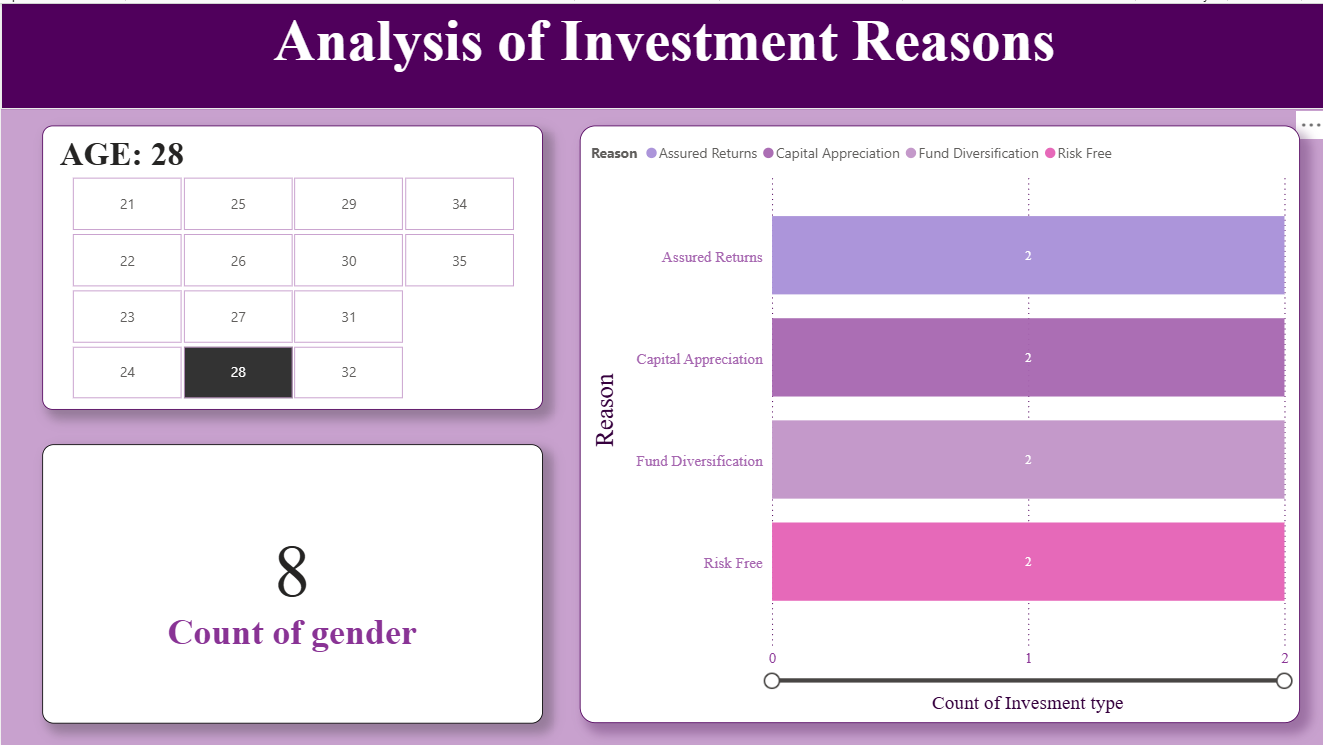

What the dashboard file says about the page in this screenshot:
{"tool":"powerbi","page":{"name":"Page 5","canvas":[1280,720],"ordinal":4},"visuals":[{"type":"textbox","box":[0,0,1280.4,102.4],"z":0},{"type":"barChart","fields":{"Y":["CountNonNull(Data_set 2.Invesment type)"],"Series":["Data_set 2.Reason"],"Category":["Data_set 2.Reason"]},"box":[558.5,118.5,695,576.4],"z":1000},{"type":"slicer","fields":{"Values":["Data_set 2.age"]},"box":[39.5,118.5,483.1,274.7],"z":2000},{"type":"card","fields":{"Values":["CountNonNull(Data_set 2.gender)"]},"box":[39.5,425.6,483.1,269.4],"z":3000}]}

Visuals, with their boxes in screenshot pixels (x1, y1, x2, y2), scaled from the page's 1280x720 canvas onto the 1323x745 screenshot:
textbox: (0, 0, 1322, 106)
barChart - CountNonNull(Data_set 2.Invesment type) x Data_set 2.Reason: (577, 123, 1296, 719)
slicer - Data_set 2.age: (41, 123, 540, 407)
card - CountNonNull(Data_set 2.gender): (41, 440, 540, 719)
